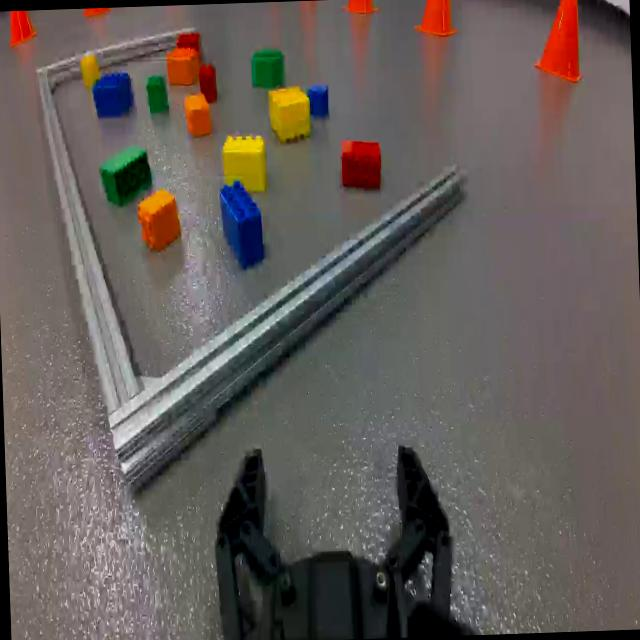block: (221, 135, 266, 193), (270, 86, 310, 142), (82, 52, 96, 87)
blue: (219, 178, 264, 269), (94, 69, 130, 114), (307, 85, 329, 116)
cone: (534, 0, 584, 83), (415, 0, 456, 37), (5, 9, 39, 46), (343, 0, 378, 17), (85, 7, 110, 17)
green: (100, 145, 152, 205), (250, 47, 284, 87), (148, 74, 168, 106)
metal barrier: (37, 17, 474, 495)
orange: (140, 188, 178, 250), (166, 46, 201, 84), (184, 94, 210, 134)
red goal: (339, 139, 382, 192), (198, 64, 217, 102), (176, 33, 202, 51)
